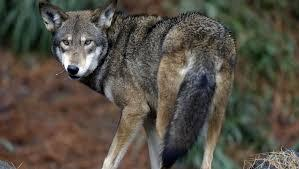Wolf: (36, 0, 238, 169)
